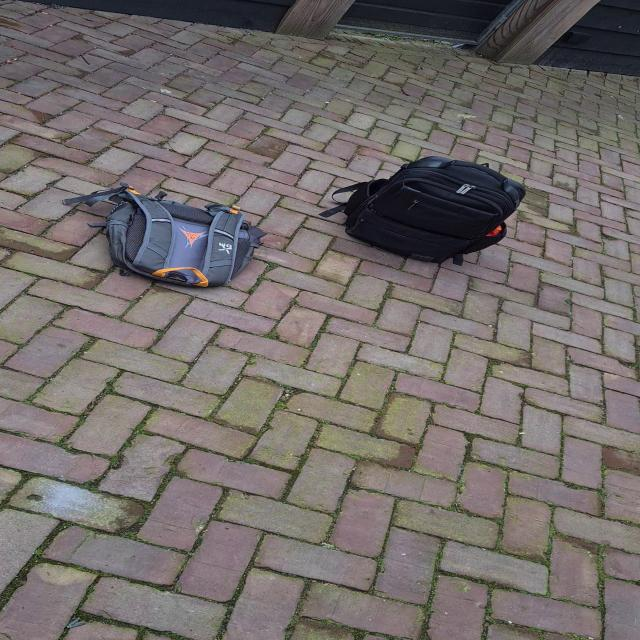backpack: (332, 151, 533, 265), (92, 184, 268, 290)
